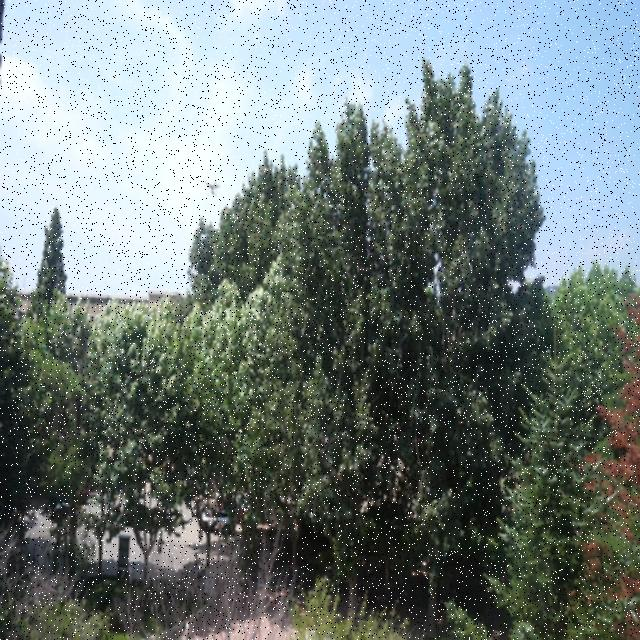UAV: (200, 180, 220, 196)
